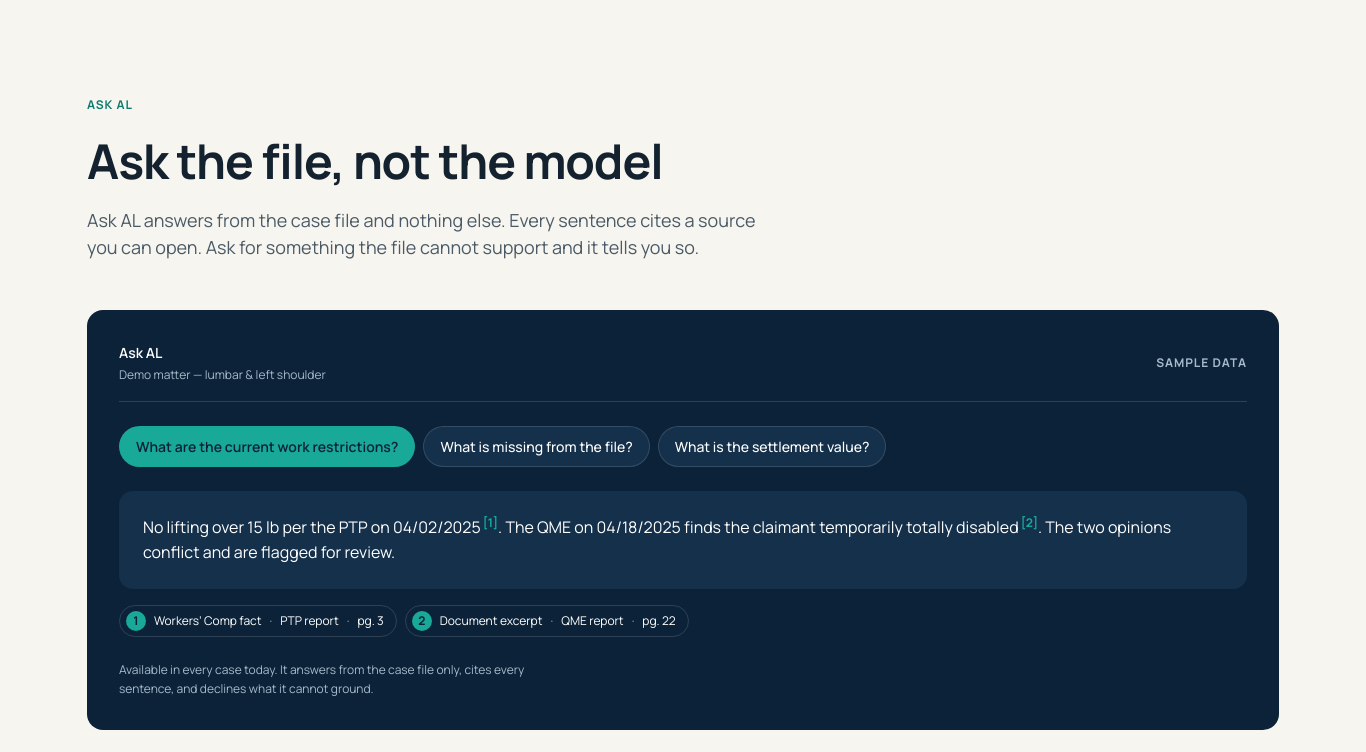
Test: AskAl › opens a citation card with document, page, excerpt, and review status
Click the button with test id "askal-chip" that starts with "Document excerpt".
click(491, 620)  # box [405,605,689,637]
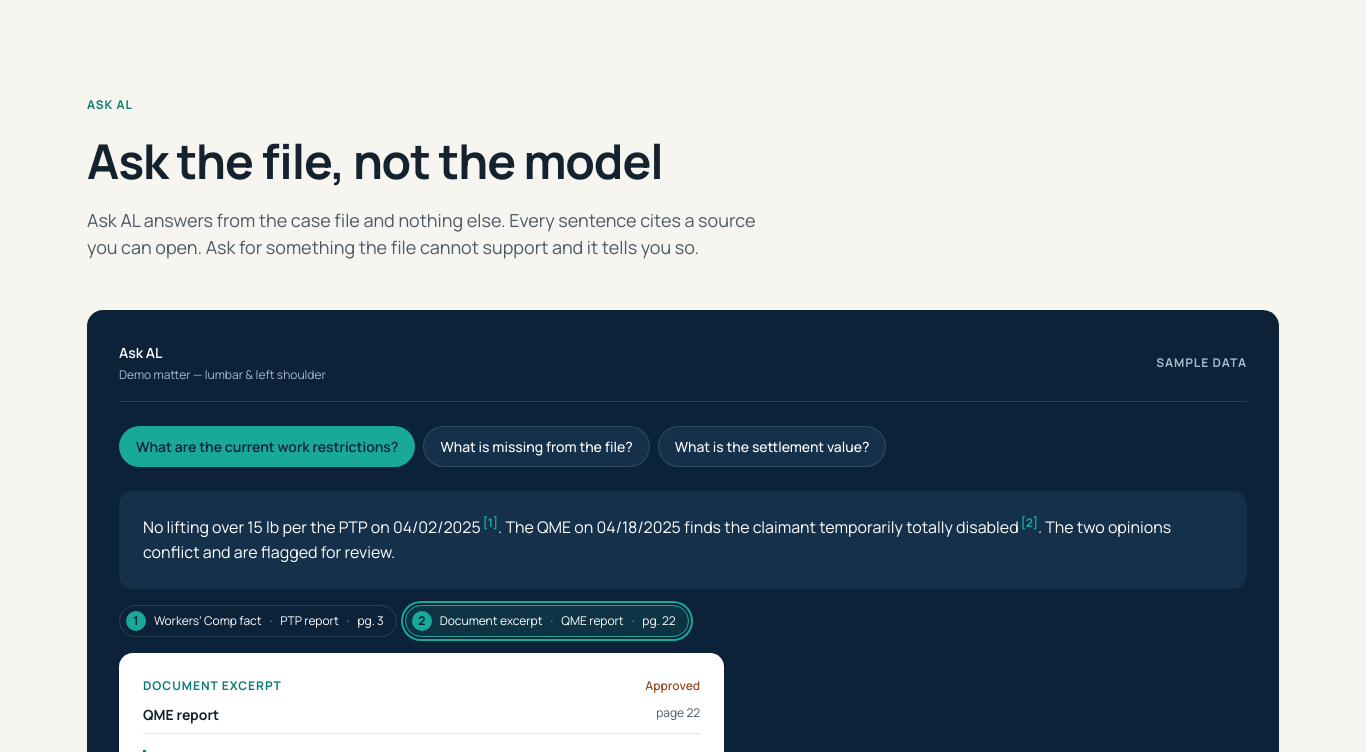
expect the text "QME report" in the row of "page" is shown: met, box [143,704,219,724]
expect the text "page 22" is shown: met, box [656,704,700,725]
expect the text "Approved" is shown: met, box [645,677,700,696]
